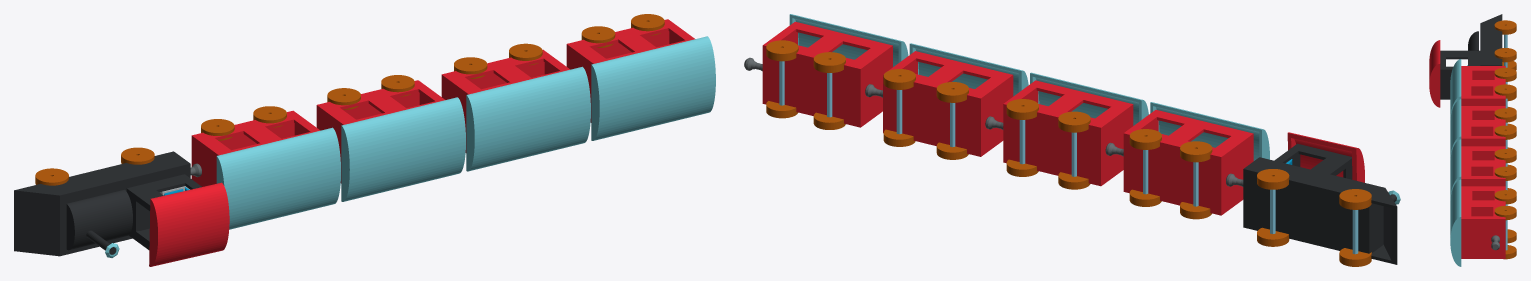
The model's file is tinker.obj.
3 renders of one model, left to right at view 1: azimuth 30°, elevation 25°; view 2: azimuth 150°, elevation 25°; view 3: azimuth 270°, elevation 25°, orthographic. The views are drawn at different scales.
Parts seen in each view (by area): view 1: group_0_7720667, group_0_15277357, group_0_2829873, group_0_12212742; view 2: group_0_15277357, group_0_2829873, group_0_12212742, group_0_7720667, group_0_8768998, group_0_6383466; view 3: group_0_15277357, group_0_12212742, group_0_7720667, group_0_2829873, group_0_8768998, group_0_6383466.
Part boxes in pixels (bbox=[...]): group_0_7720667: bbox=[105, 36, 715, 257]; group_0_15277357: bbox=[149, 19, 695, 266]; group_0_2829873: bbox=[14, 151, 201, 256]; group_0_12212742: bbox=[35, 14, 664, 185]; group_0_15277357: bbox=[762, 21, 1364, 215]; group_0_2829873: bbox=[1243, 143, 1397, 264]; group_0_12212742: bbox=[766, 40, 1371, 266]; group_0_7720667: bbox=[789, 14, 1400, 204]; group_0_8768998: bbox=[779, 61, 1358, 254]; group_0_6383466: bbox=[744, 57, 1243, 186]; group_0_15277357: bbox=[1429, 40, 1505, 258]; group_0_12212742: bbox=[1494, 20, 1516, 259]; group_0_7720667: bbox=[1450, 59, 1461, 266]; group_0_2829873: bbox=[1440, 14, 1502, 99]; group_0_8768998: bbox=[1504, 34, 1507, 250]; group_0_6383466: bbox=[1491, 235, 1499, 250].
Bounding box in the file's own units: 469 × 52.35 × 79.01.
